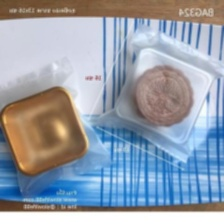snack: (82, 13, 224, 174), (0, 51, 118, 204)
